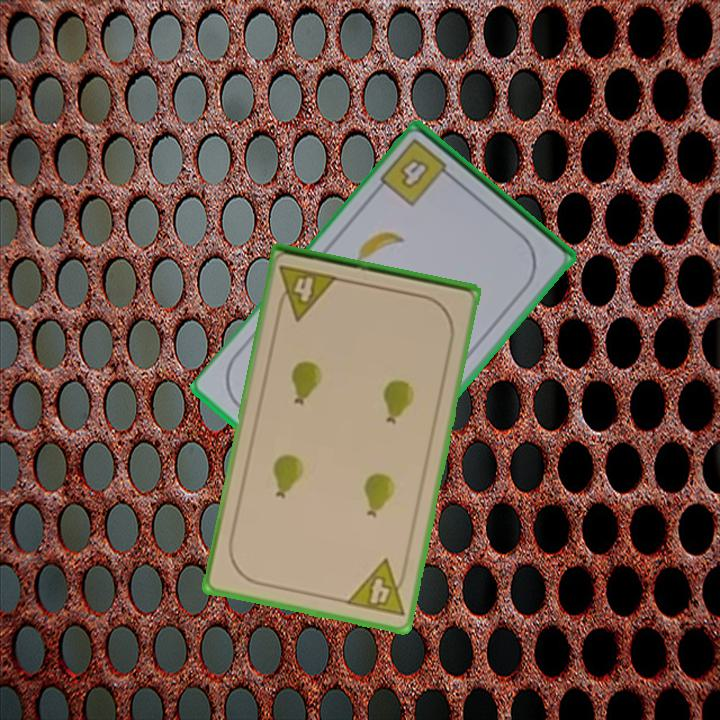4b: (396, 154, 433, 193)
4p: (342, 556, 411, 620), (273, 262, 341, 323)
